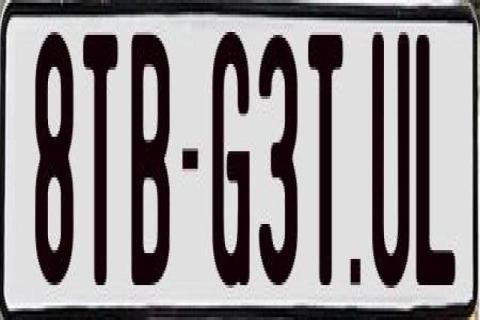0: (32, 26, 75, 291), (260, 32, 298, 285)
B: (128, 27, 168, 286)
G: (212, 29, 250, 303)
L: (413, 35, 454, 297)
T: (306, 29, 346, 297), (82, 35, 118, 291)
U: (373, 29, 411, 297)
